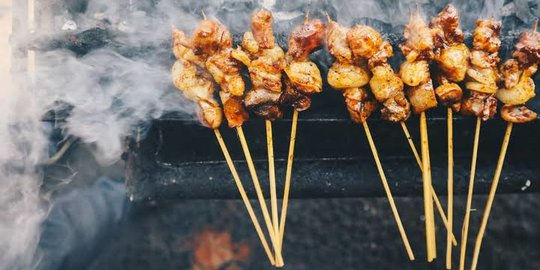sate: (155, 7, 540, 142)
